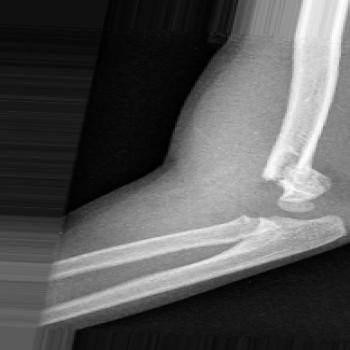Fracture: (247, 172, 315, 230)
